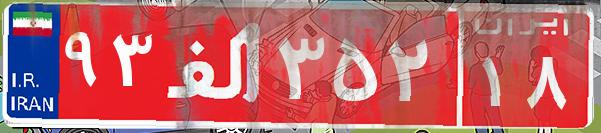1: (475, 38, 525, 113)
2: (385, 28, 445, 110)
3: (273, 28, 330, 110), (110, 28, 158, 105)
5: (330, 28, 385, 110)
8: (525, 38, 570, 115)
9: (57, 26, 110, 107)
الف: (158, 15, 273, 115)
